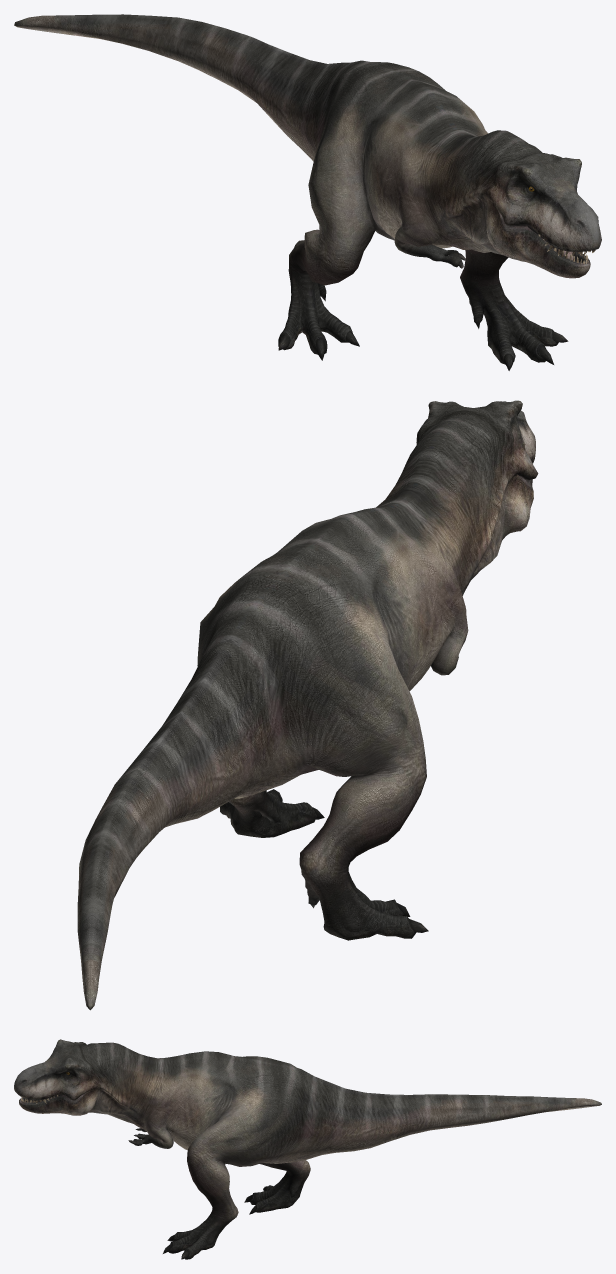
File: IQ_Regent.glb
3 views of the same model, one above another, from view 1: azimuth 30°, elevation 25°; view 2: azimuth 150°, elevation 25°; view 3: azimuth 270°, elevation 25° (orthographic). The views are drawn at different scales.
Parts seen in each view (by area): view 1: Object_97; view 2: Object_97; view 3: Object_97.
Part boxes in pixels (box(x1,y1,x2,y2)): Object_97: box(14, 14, 601, 370); Object_97: box(77, 400, 538, 1010); Object_97: box(14, 1039, 601, 1259).
Size of the model in its own units: 1.77 by 2.12 by 6.18.
1 material, 1 textured.
